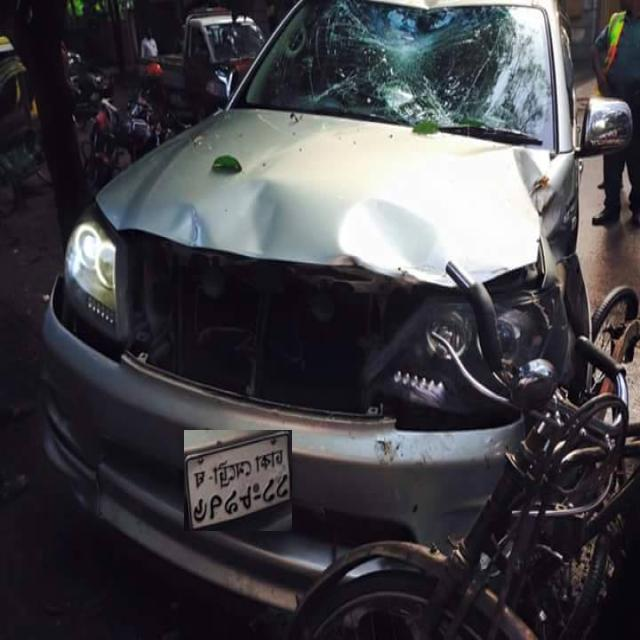numberplate: (184, 430, 292, 531)
